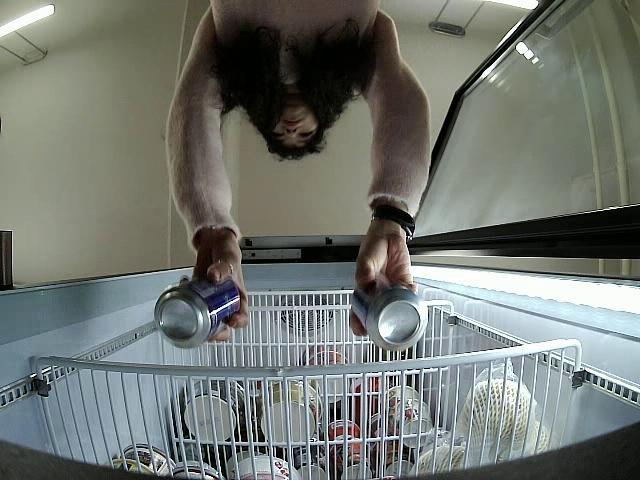14_welchsGrape: (153, 278, 240, 349), (350, 280, 429, 353)
